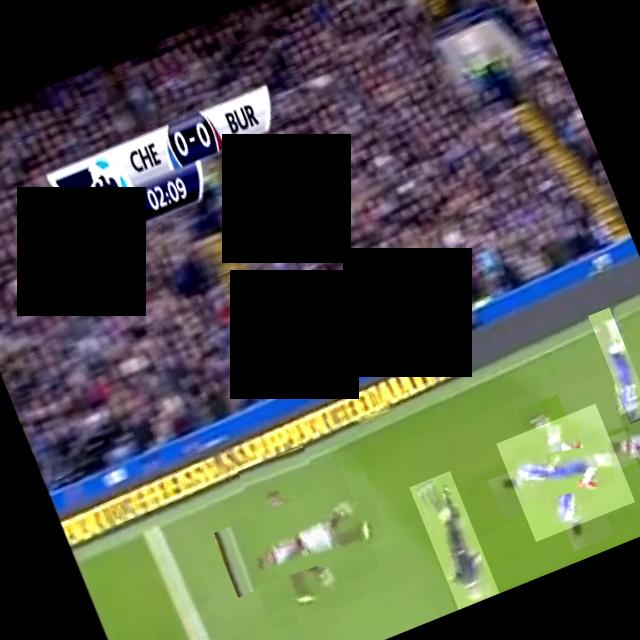referee: (408, 470, 498, 610)
soccer-player: (220, 454, 378, 612), (494, 402, 634, 540), (586, 306, 640, 420), (613, 375, 640, 484)
